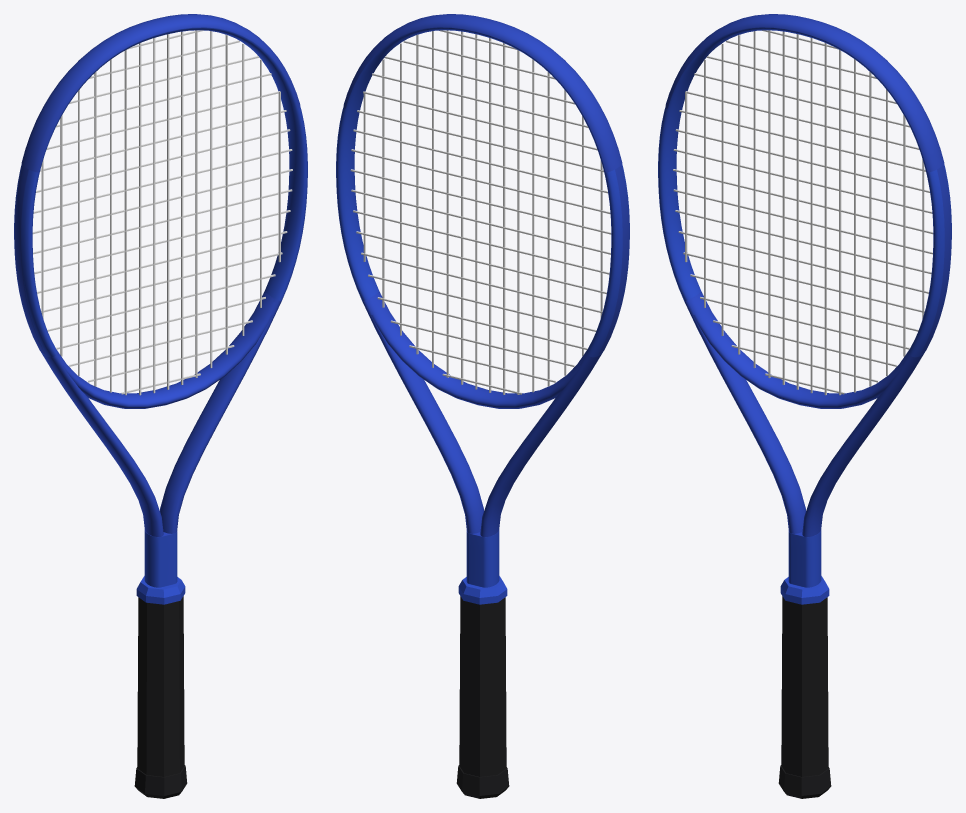
File: wilson-ultra-99-pro-v5.glb
3 renders of one model, left to right at view 1: azimuth 30°, elevation 25°; view 2: azimuth 150°, elevation 25°; view 3: azimuth 330°, elevation 25°, orthographic.
Visible parts, largest first — view 1: frame, strings_mains, strings_crosses, grip, bumper, grommets, butt_cap, collar; view 2: frame, strings_mains, strings_crosses, grip, bumper, grommets, butt_cap, collar; view 3: frame, strings_mains, strings_crosses, grip, bumper, grommets, butt_cap, collar.
Boxes of the visible parts, left/top/right/bottom form: frame: left=14, top=27, right=307, bottom=587; strings_mains: left=41, top=30, right=280, bottom=395; strings_crosses: left=32, top=30, right=292, bottom=394; grip: left=137, top=596, right=184, bottom=776; bumper: left=21, top=14, right=300, bottom=172; grommets: left=14, top=165, right=45, bottom=354; butt_cap: left=134, top=765, right=187, bottom=798; collar: left=136, top=576, right=185, bottom=604; frame: left=336, top=27, right=629, bottom=587; strings_mains: left=363, top=30, right=602, bottom=394; strings_crosses: left=350, top=30, right=611, bottom=394; grip: left=459, top=596, right=506, bottom=776; bumper: left=343, top=14, right=622, bottom=172; grommets: left=598, top=165, right=629, bottom=354; butt_cap: left=456, top=765, right=509, bottom=798; collar: left=458, top=576, right=507, bottom=604; frame: left=658, top=27, right=951, bottom=587; strings_mains: left=685, top=30, right=924, bottom=395; strings_crosses: left=673, top=30, right=933, bottom=394; grip: left=781, top=596, right=828, bottom=776; bumper: left=665, top=14, right=944, bottom=172; grommets: left=920, top=165, right=951, bottom=354; butt_cap: left=778, top=765, right=831, bottom=798; collar: left=780, top=576, right=829, bottom=604.
Bounding box in the file's own units: 0.2684 × 0.6861 × 0.0396.
